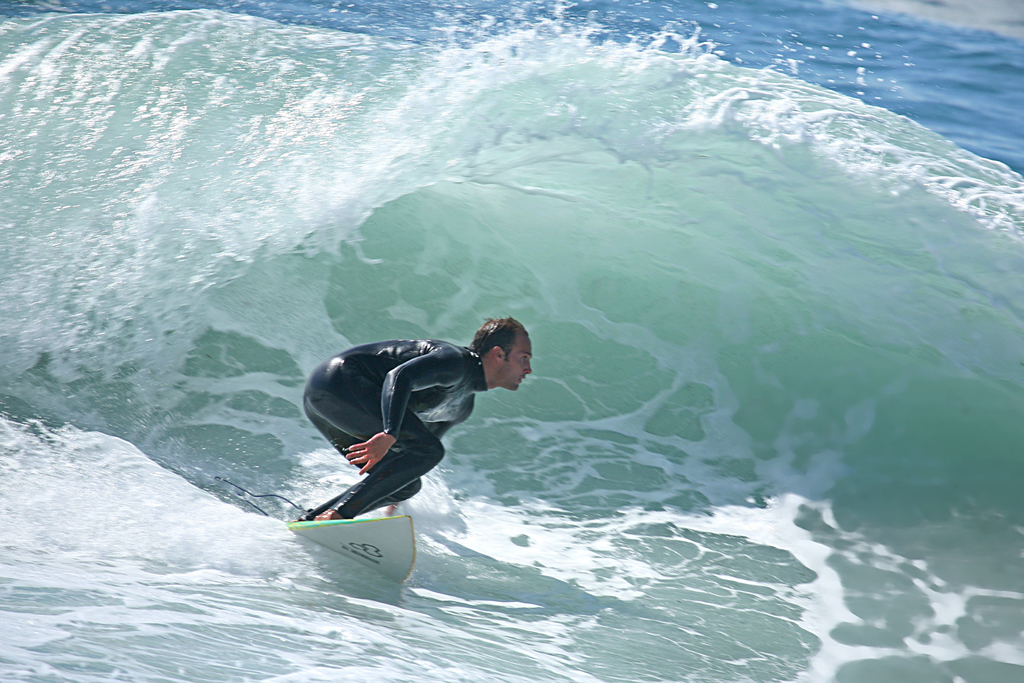Person: (293, 311, 532, 521)
